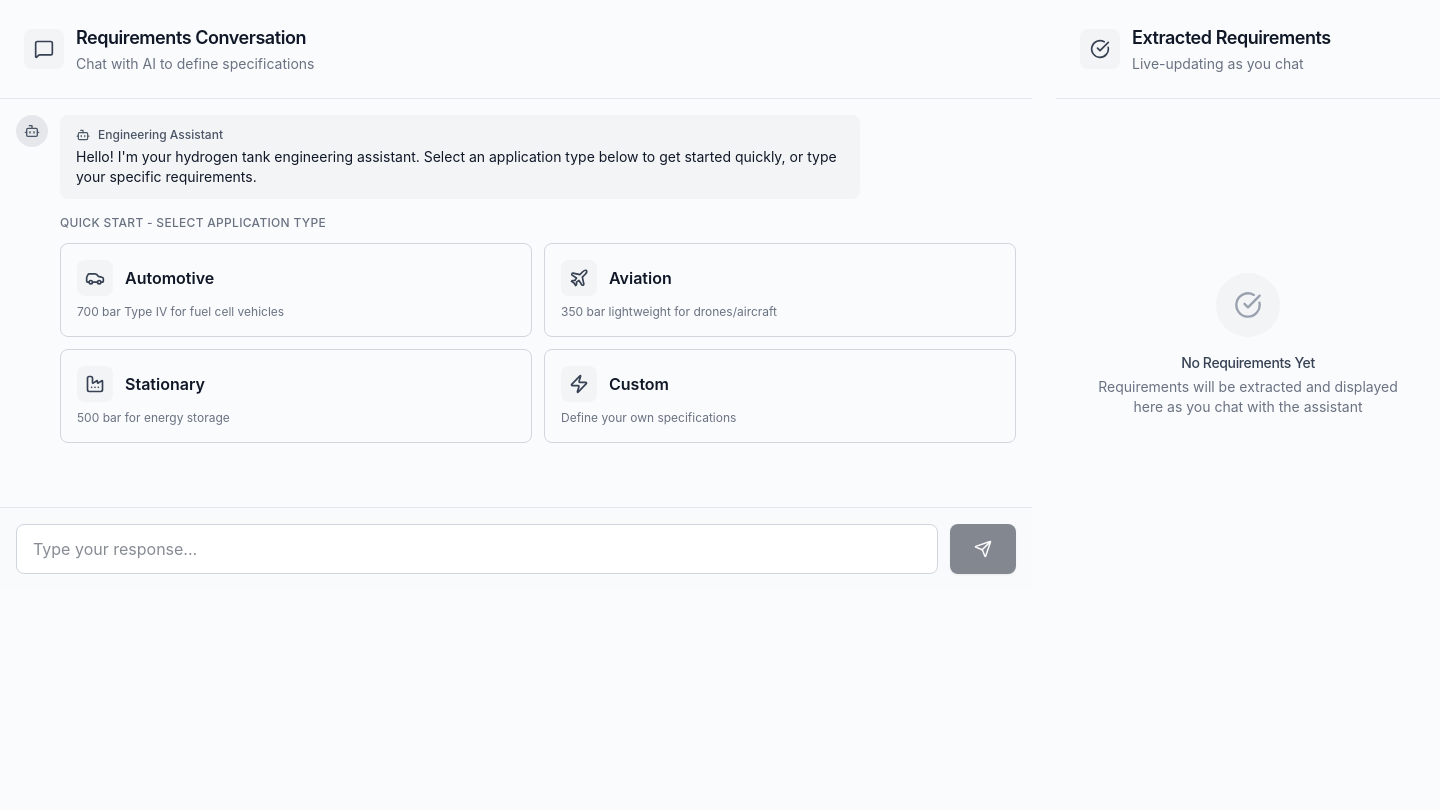
Test: RequirementsChat › sends a message when user types and submits
Type "Automotive tank, 150 liters" into the field labelled "Type your response" at (477, 549), box [16,524,938,574]
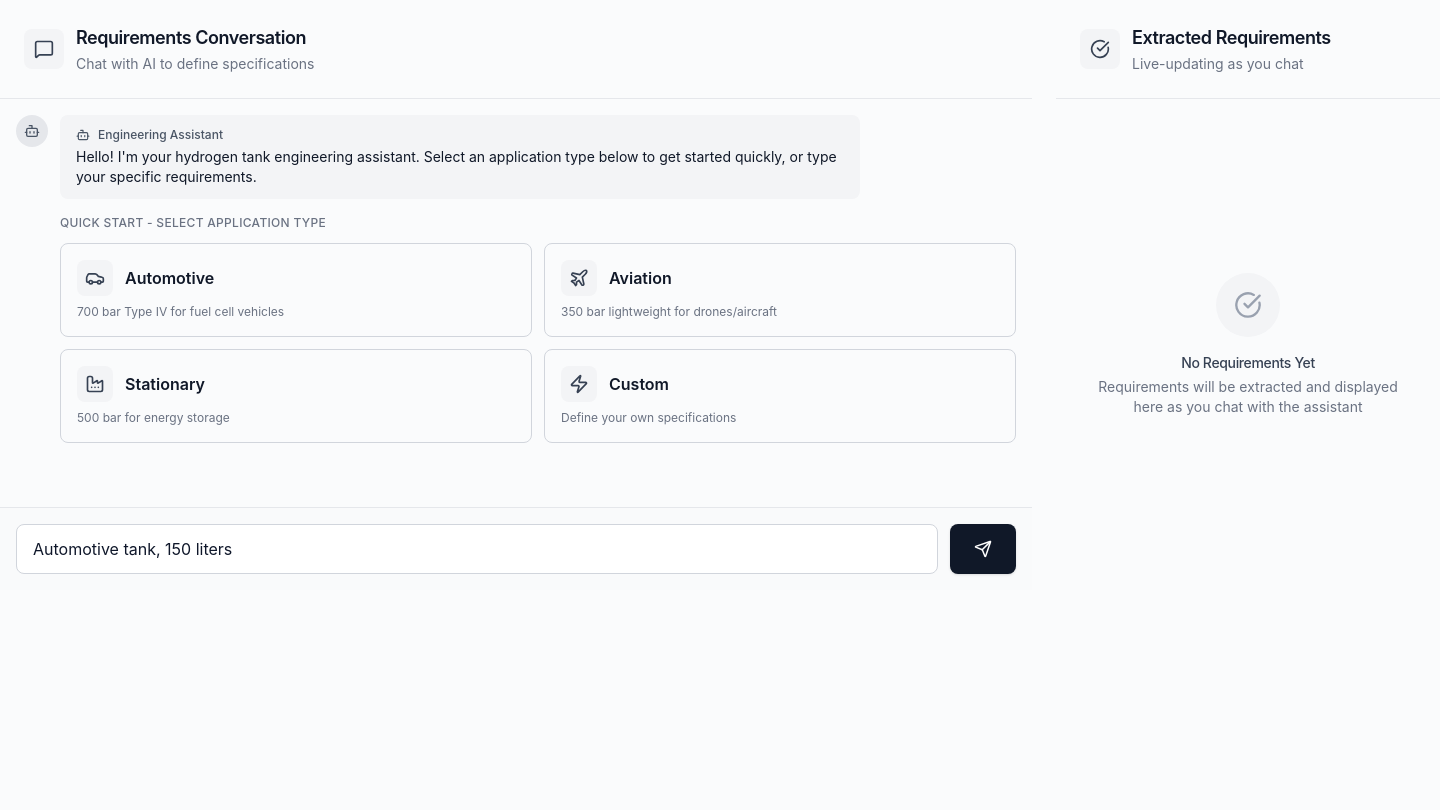
Click the button named "send message" at (983, 549), box [950,524,1016,574]
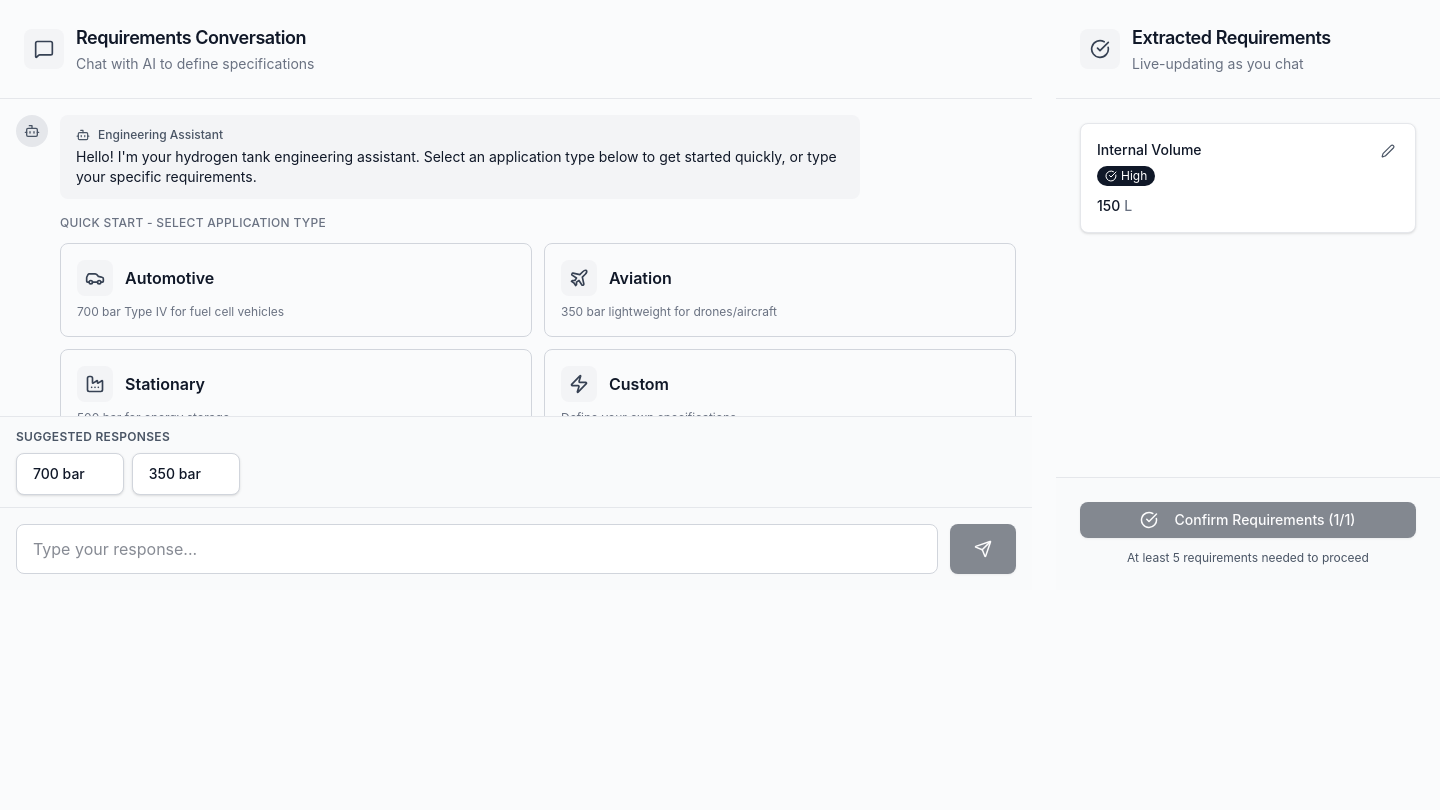
Expected: the text "Internal Volume" is shown, [1097,141,1202,158]
Expected: the text "150" is shown, [1097,197,1120,214]
Expected: the text "High" is shown, [1097,166,1155,186]
